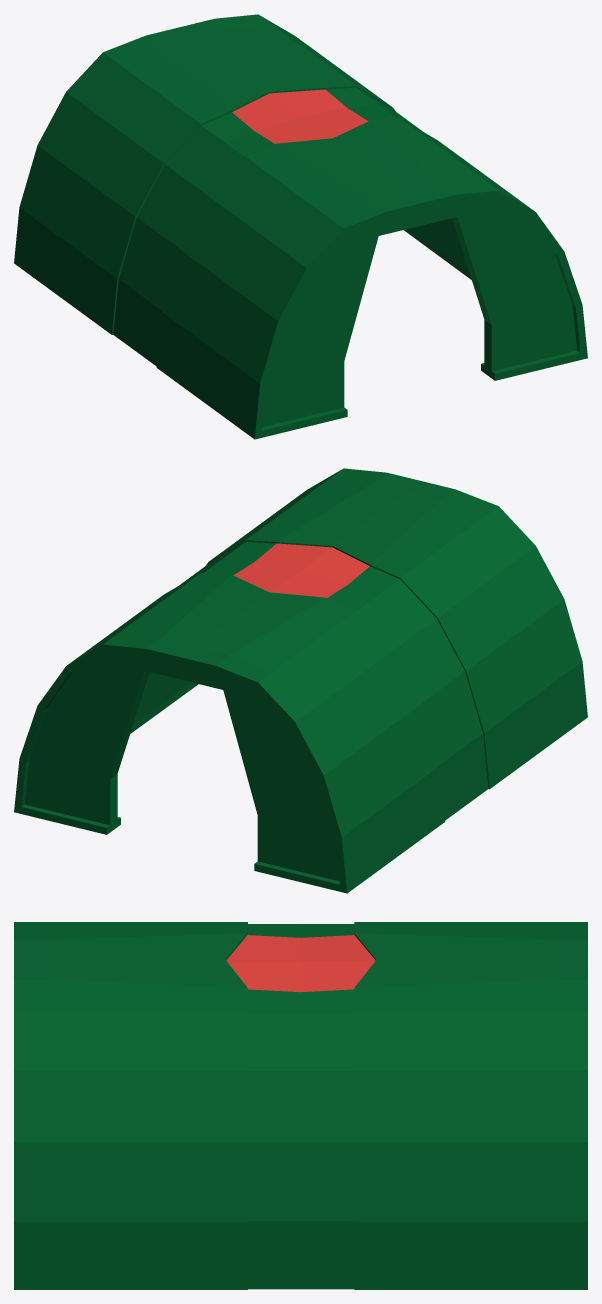
File: Tent 2.fbx
3 views of the same model, one above another, from view 1: azimuth 30°, elevation 25°; view 2: azimuth 150°, elevation 25°; view 3: azimuth 270°, elevation 25° (orthographic). The views are drawn at different scales.
Parts seen in each view (by area): view 1: Tent_2; view 2: Tent_2; view 3: Tent_2.
Boxes of the visible parts, x1,y1,x2,y2 form: Tent_2: [14, 14, 587, 439]; Tent_2: [14, 468, 587, 893]; Tent_2: [14, 922, 587, 1289].
Size of the model in its own units: 449 by 252 by 562.
